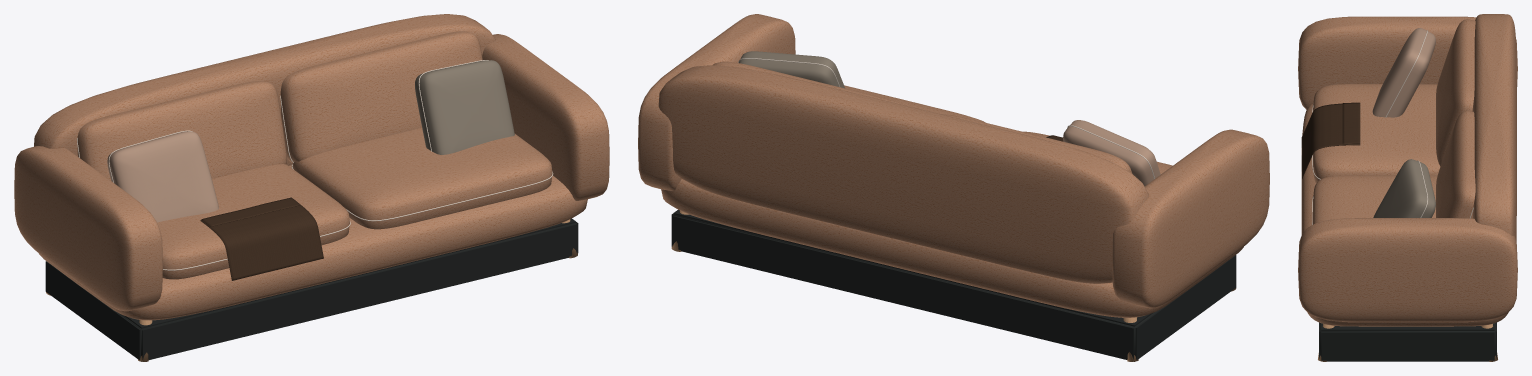
Rendered from contemporary.sofa.gltf.
The picture shows the model from 3 angles, left to right: view 1: azimuth 30°, elevation 25°; view 2: azimuth 150°, elevation 25°; view 3: azimuth 270°, elevation 25°; orthographic projection. The views are drawn at different scales.
Parts seen in each view (by area): view 1: contemporary.sofa.leg; view 2: contemporary.sofa.leg; view 3: contemporary.sofa.leg.
Part boxes in pixels (left/top/right/bottom): contemporary.sofa.leg: left=14, top=14, right=609, bottom=361; contemporary.sofa.leg: left=638, top=14, right=1269, bottom=361; contemporary.sofa.leg: left=1298, top=14, right=1517, bottom=361.
Bounding box in the file's own units: 2.22 × 0.8031 × 0.94.
7 materials, 4 textured.
